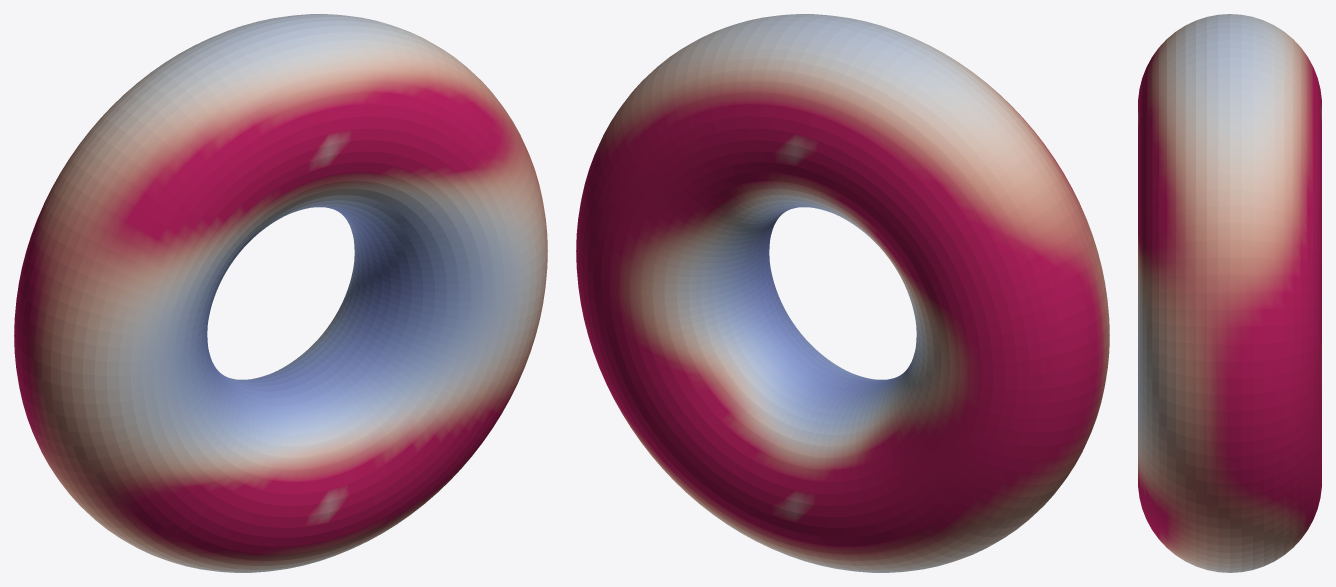
3 views of the same model, side by side, from view 1: azimuth 30°, elevation 25°; view 2: azimuth 150°, elevation 25°; view 3: azimuth 270°, elevation 25° (orthographic). The views are drawn at different scales.
Visible parts, largest first — view 1: world; view 2: world; view 3: world.
Boxes of the visible parts, x1,y1,x2,y2 form: world: (14, 14, 547, 572); world: (576, 14, 1109, 572); world: (1138, 14, 1321, 572).
Size of the model in its own units: 23.87 by 23.87 by 7.85.
